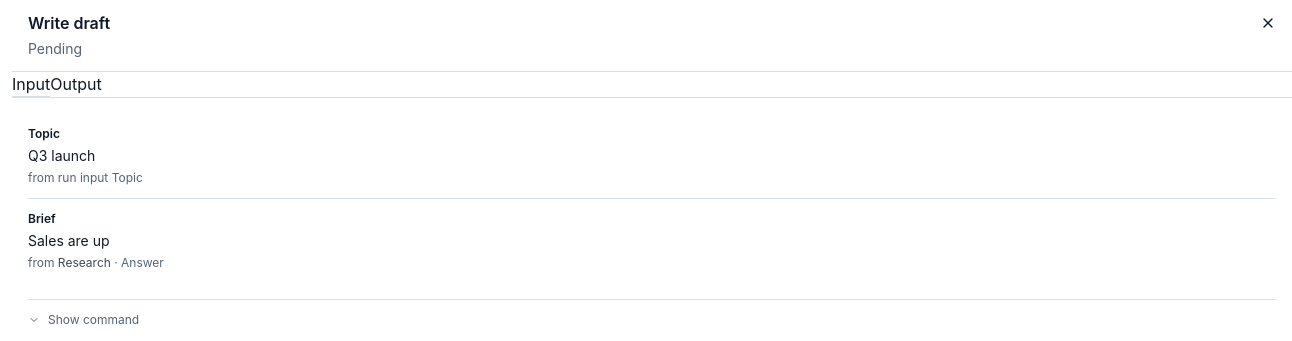
Test: StepPanel — tabs › explains an empty output in terms of the step's status
This screenshot has width=1292, height=341.
Click the tab "Output" at (76, 85), box x1=50 y1=72 x2=102 y2=98
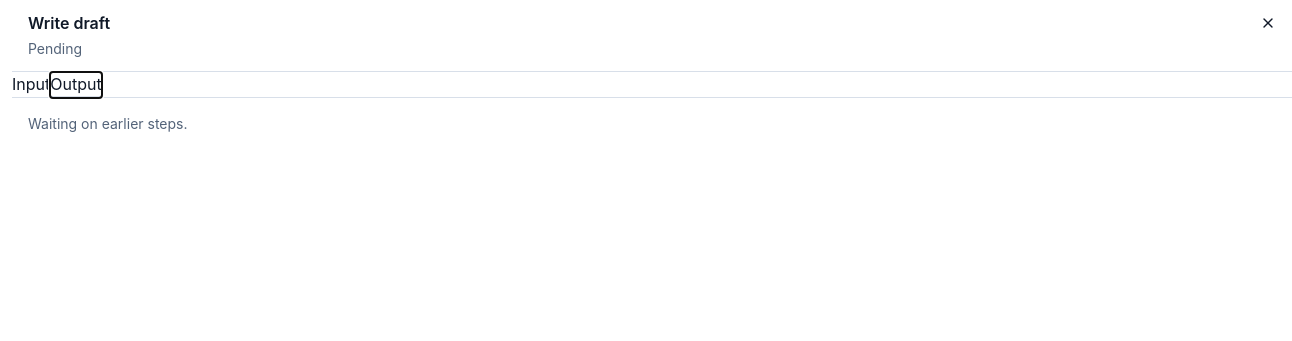
Expected: the text "Waiting on earlier steps." is shown, x1=28 y1=115 x2=188 y2=132
